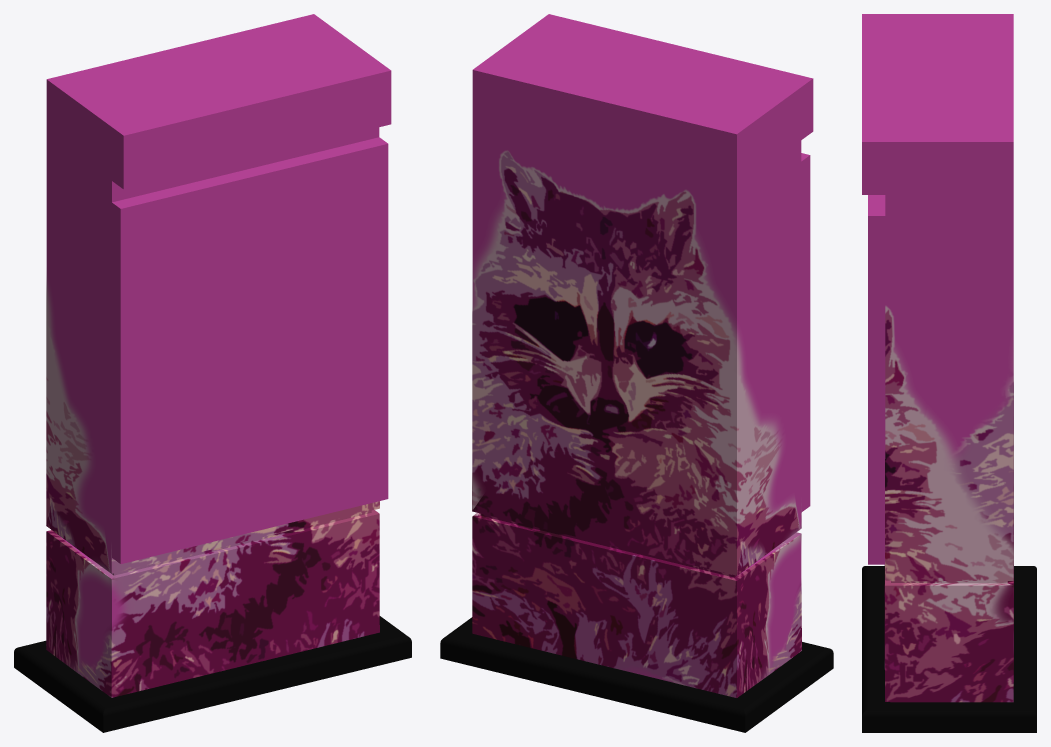
The model's file is Day 24 - Traffic Signal Control Box.glb.
The picture shows the model from 3 angles, left to right: view 1: azimuth 30°, elevation 25°; view 2: azimuth 150°, elevation 25°; view 3: azimuth 270°, elevation 25°; orthographic projection.
Visible parts, largest first — view 1: Body2, Body1, Raccoon (×2), Body3; view 2: Raccoon (×2), Body1, Body3, Body2; view 3: Body1, Raccoon (×2), Body3, Body2.
Boxes of the visible parts, x1,y1,x2,y2 form: Body2: [112, 137, 388, 563]; Body1: [46, 14, 391, 673]; Raccoon (×2): [46, 278, 379, 697]; Body3: [14, 616, 411, 732]; Raccoon (×2): [472, 150, 801, 697]; Body1: [472, 14, 813, 684]; Body3: [440, 617, 833, 732]; Body2: [801, 153, 810, 512]; Body1: [862, 14, 1013, 460]; Raccoon (×2): [884, 305, 1013, 702]; Body3: [862, 566, 1036, 732]; Body2: [868, 195, 885, 564].
Bounding box in the file's own units: 1.94 × 3.55 × 0.9677.
Materials: 4 (2 with a texture image).
